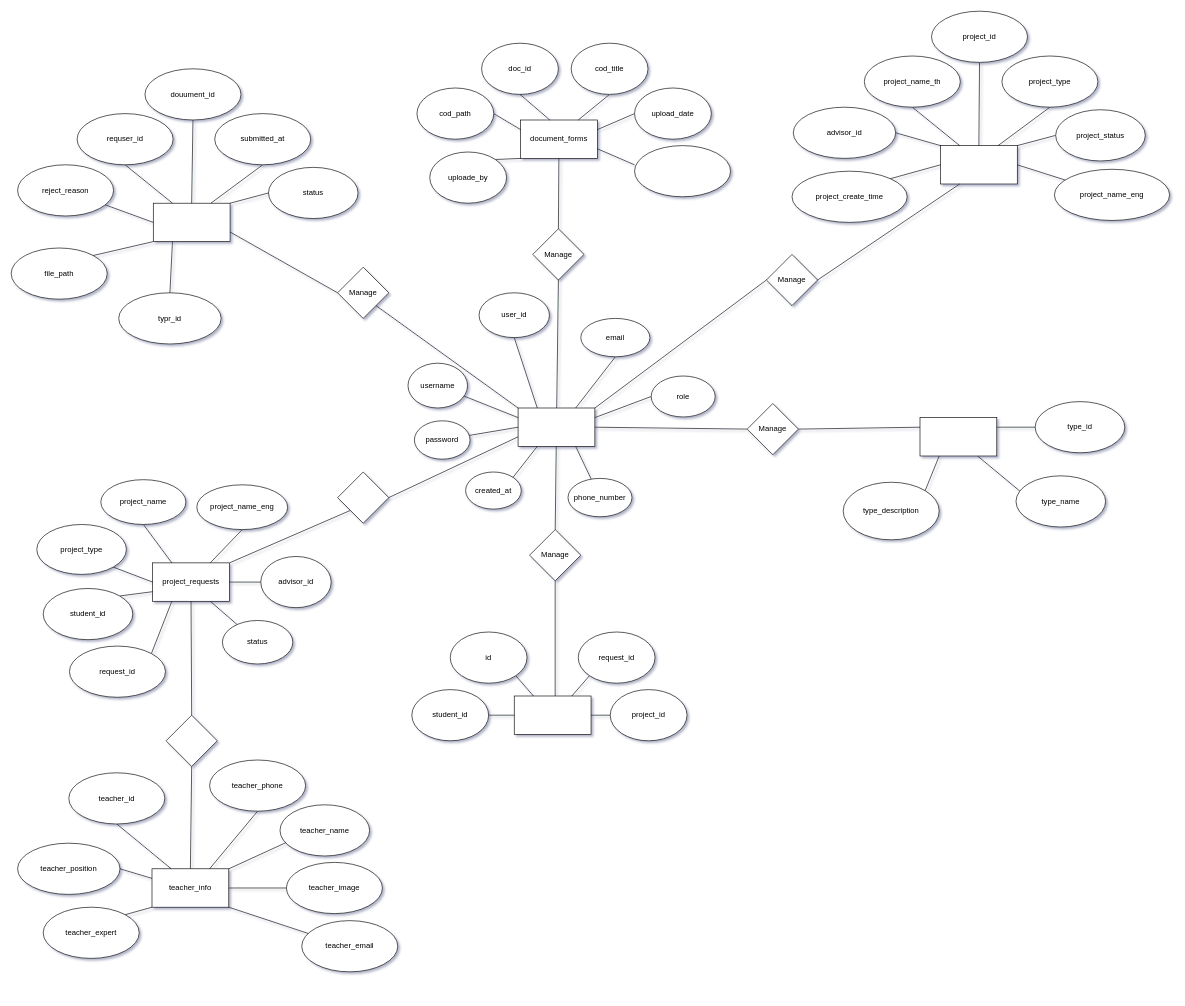
The diagram is 1185 pixels wide and 1006 high, and some of its shapes have lost their labels. The box of each missing label's shape, as (x1, y1, x2, y2) in pixels:
doc_descriptipn: (634, 145, 731, 197)
document_types: (919, 417, 997, 456)
have: (165, 715, 217, 766)
project_documents: (153, 203, 230, 242)
project_release: (940, 145, 1017, 184)
Request: (337, 471, 389, 523)
students_projects: (514, 695, 591, 734)
users: (517, 407, 595, 446)
